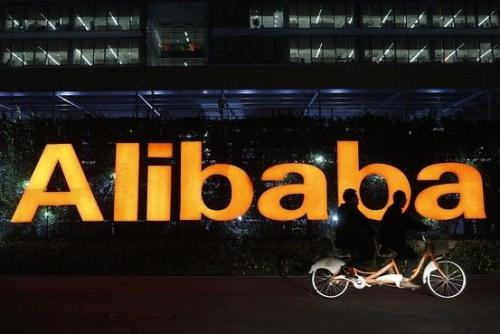alibaba: (8, 138, 490, 226)
